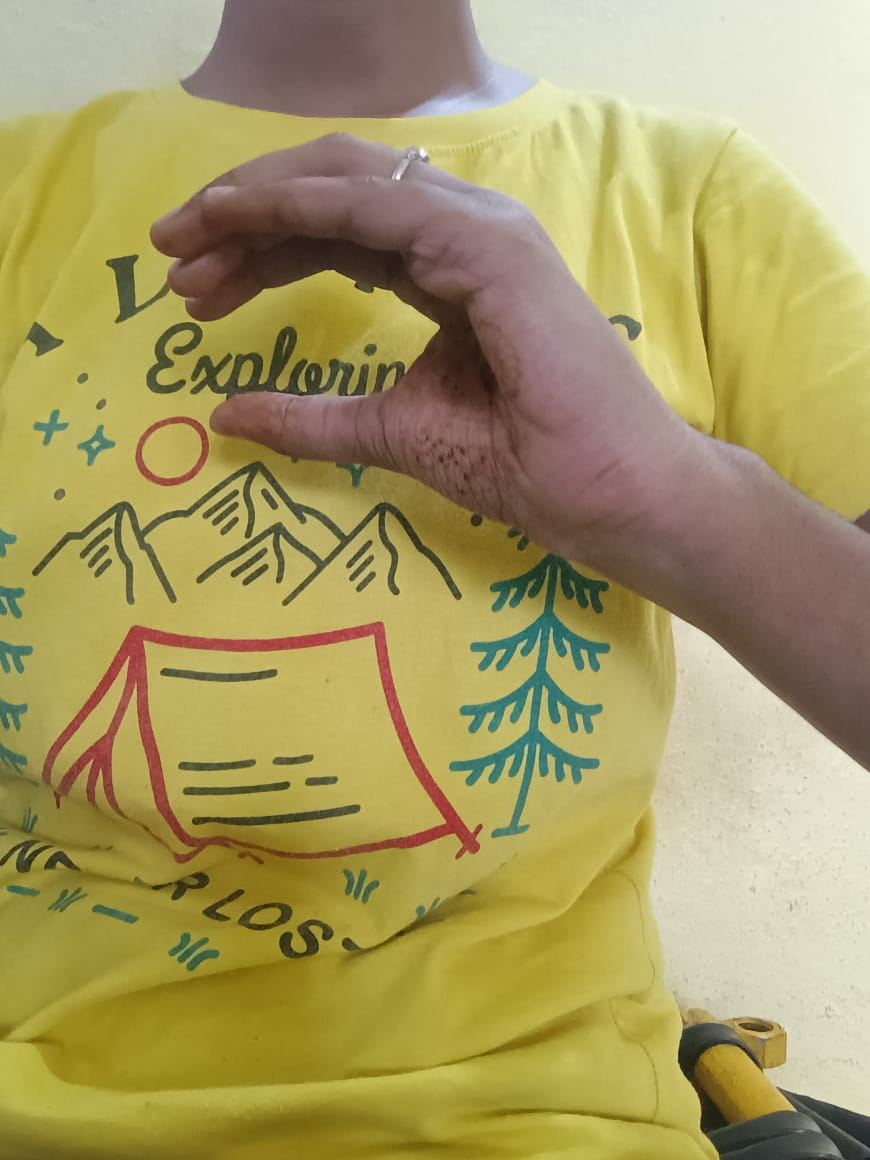C: (148, 133, 710, 566)
